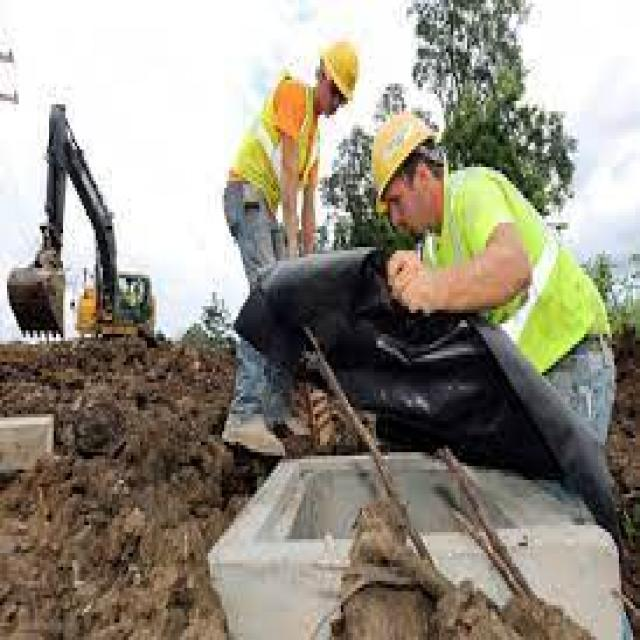Reflective-Jacket: (422, 160, 616, 383), (215, 66, 329, 216)
Safety-Helmet: (365, 101, 439, 212), (311, 28, 371, 111)
